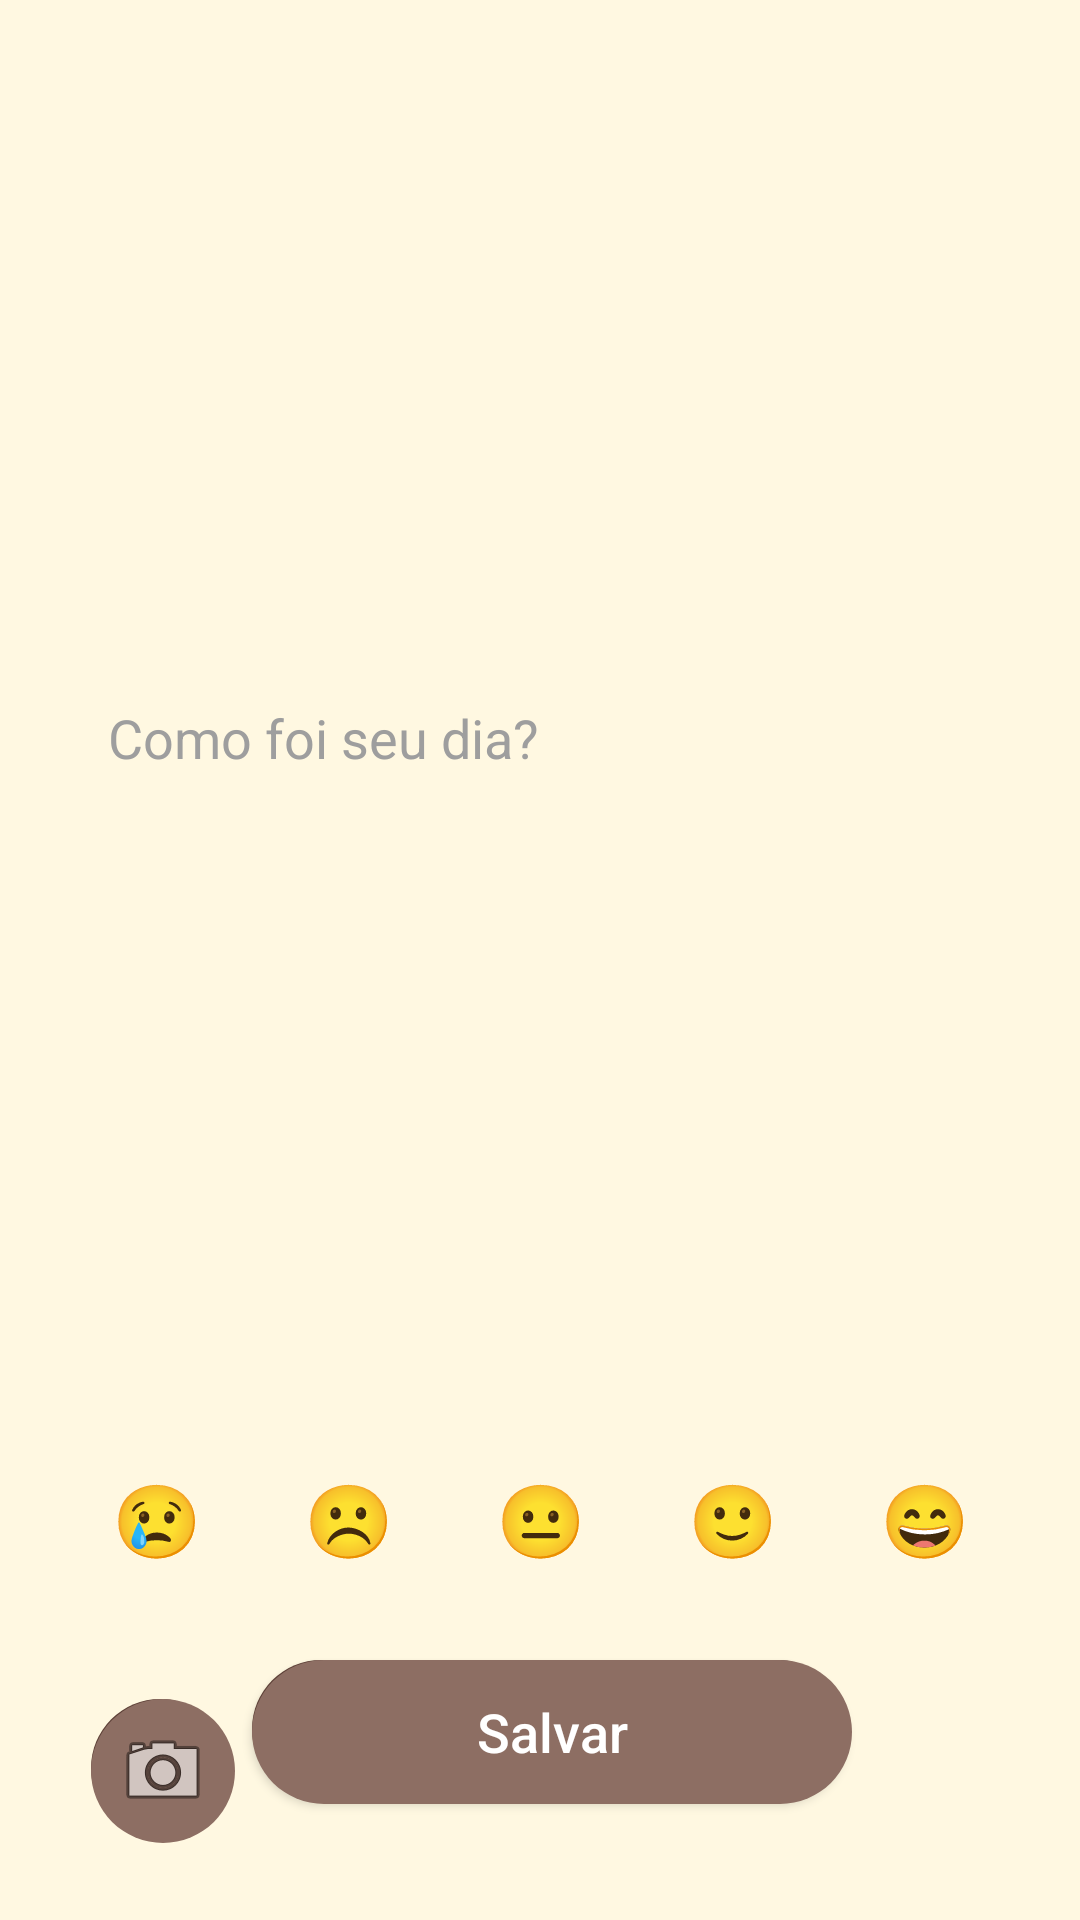

Screen size 1080*1920. Icon name, then its box in pixels as (x1, y1, x2, y2):
Abrir câmera: (91, 1699, 235, 1843)
